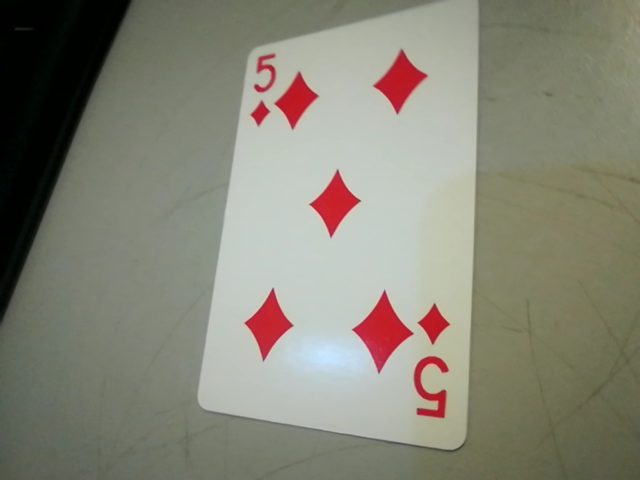fk 5: (404, 293, 464, 433)
